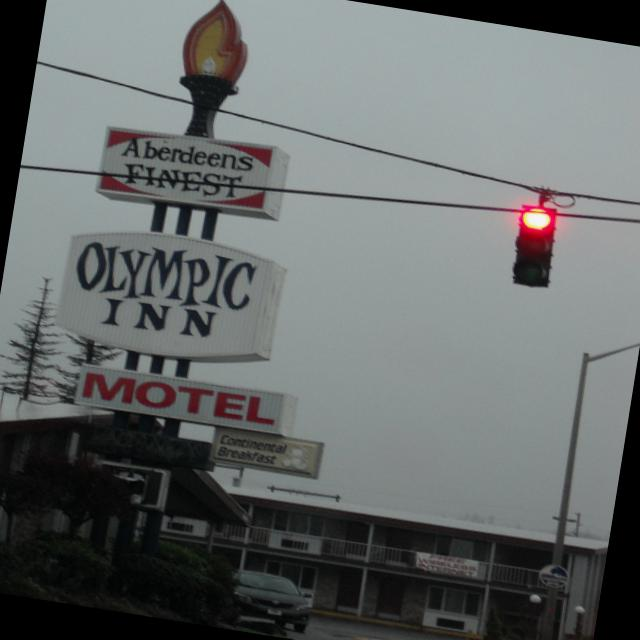Vehicle: (226, 568, 316, 634)
